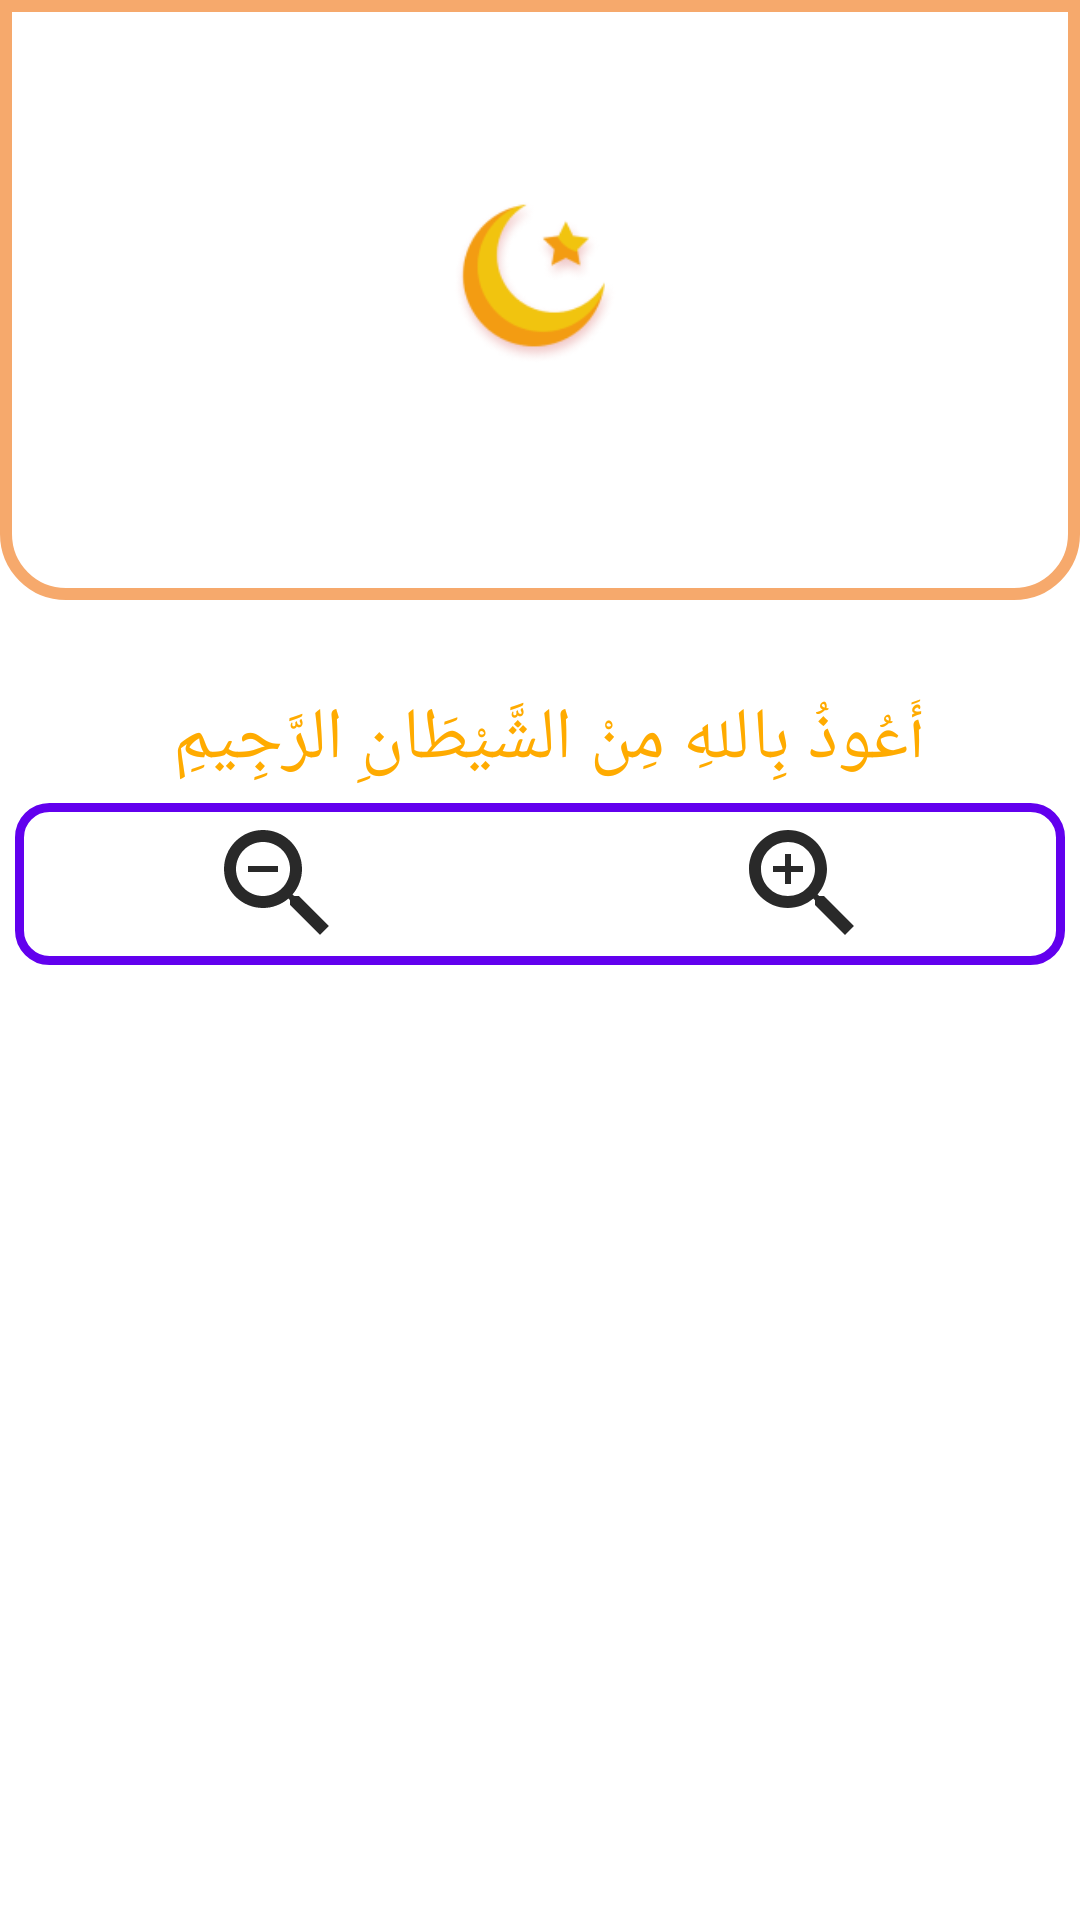

Where icons sit on this 1080 x 1920 app screen, as bbox=(x1, y1, x2, y2):
moon: bbox=(462, 204, 605, 354)
